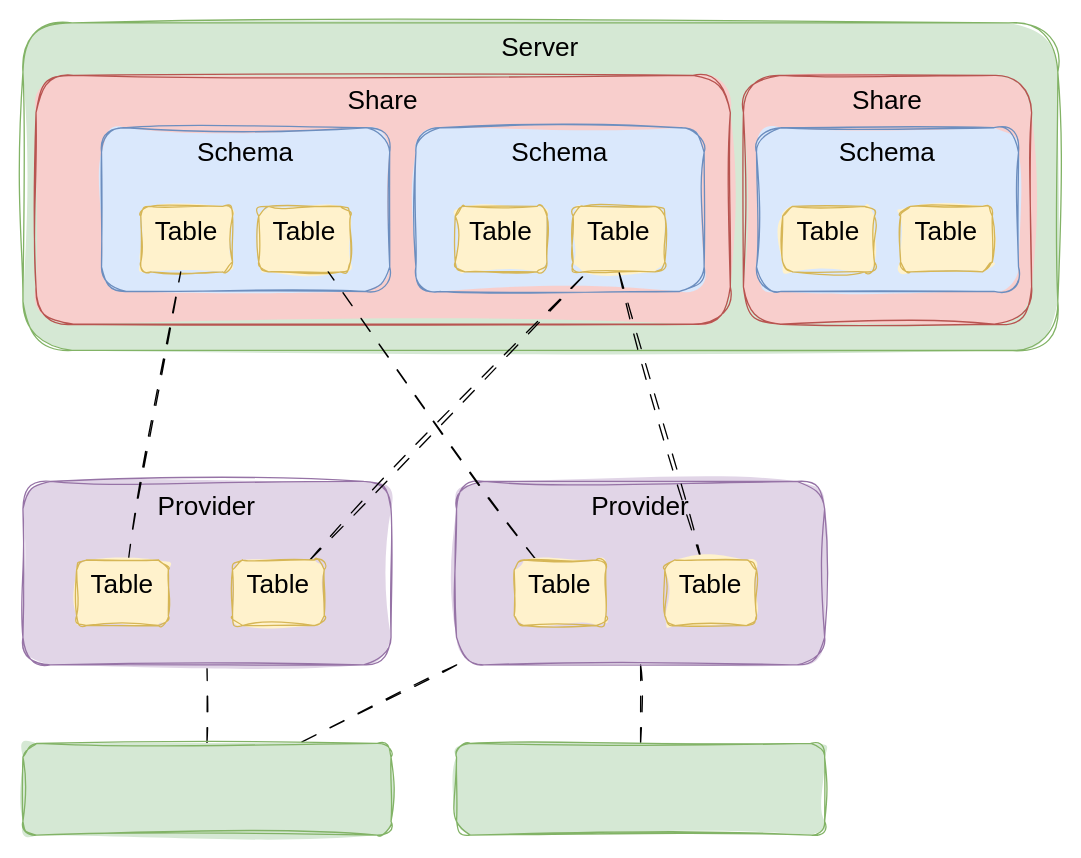
The diagram is 1081 pixels wide and 858 high, and some of its shapes have lost their labels. Each missing label, with the centre of its shape:
Metastore: point (640, 788)
Storage: point (206, 788)
